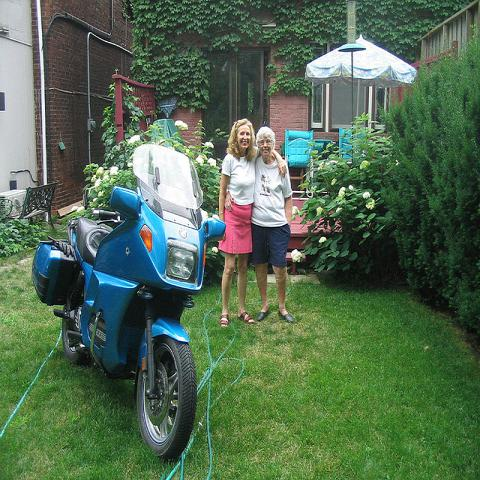motorcycle: (28, 140, 231, 464)
